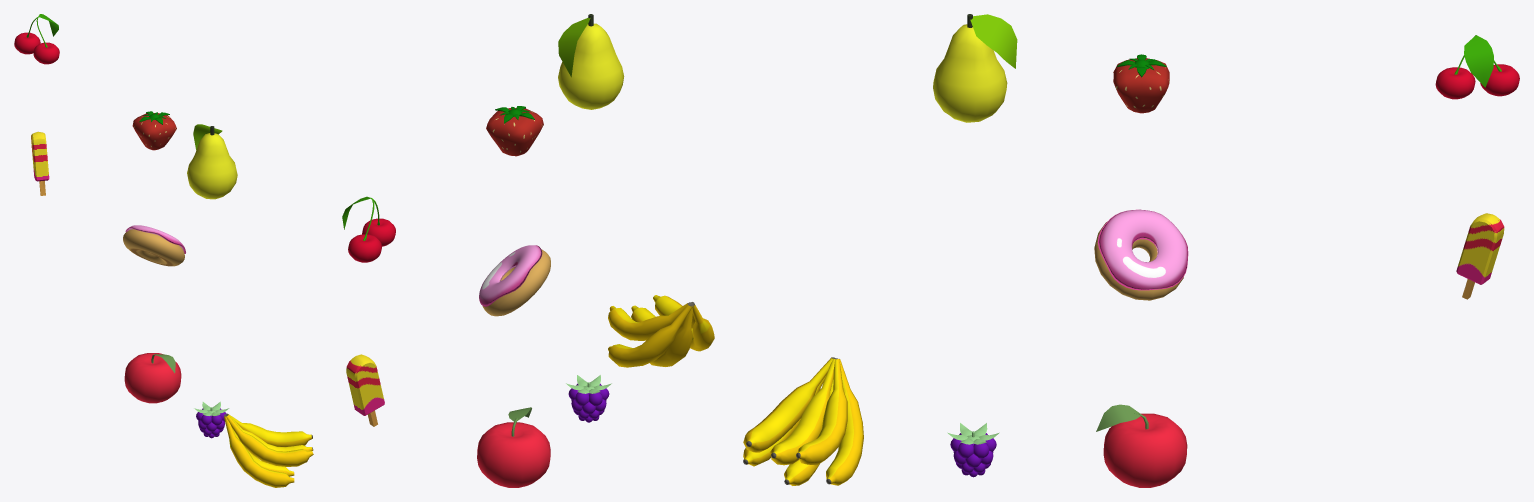
Rendered from Food.fbx.
3 views of the same model, side by side, from view 1: azimuth 30°, elevation 25°; view 2: azimuth 150°, elevation 25°; view 3: azimuth 270°, elevation 25° (orthographic). The views are drawn at different scales.
Visible parts, largest first — view 1: Bananas_21, Pear_4, Apple_23, Donut_14, pCube1_6, Cherry_1, Icecream_8, Blackberry_22; view 2: Bananas_21, Pear_4, Apple_23, Donut_14, pCube1_6, Icecream_8, Cherry_1, Blackberry_22; view 3: Bananas_21, Pear_4, Donut_14, Apple_23, Cherry_1, pCube1_6, Icecream_8, Blackberry_22.
Part boxes in pixels (bbox=[...]): Bananas_21: bbox=[224, 413, 313, 487]; Pear_4: bbox=[187, 124, 237, 199]; Apple_23: bbox=[124, 353, 181, 403]; Donut_14: bbox=[123, 225, 185, 266]; pCube1_6: bbox=[132, 111, 176, 150]; Cherry_1: bbox=[14, 14, 59, 64]; Icecream_8: bbox=[31, 131, 49, 195]; Blackberry_22: bbox=[194, 401, 229, 438]; Bananas_21: bbox=[608, 295, 714, 367]; Pear_4: bbox=[558, 14, 624, 109]; Apple_23: bbox=[477, 407, 550, 487]; Donut_14: bbox=[479, 245, 550, 316]; pCube1_6: bbox=[486, 106, 543, 156]; Icecream_8: bbox=[346, 354, 384, 426]; Cherry_1: bbox=[342, 196, 395, 262]; Blackberry_22: bbox=[566, 375, 611, 422]; Bananas_21: bbox=[743, 357, 863, 485]; Pear_4: bbox=[933, 14, 1017, 122]; Donut_14: bbox=[1094, 209, 1188, 300]; Apple_23: bbox=[1096, 404, 1187, 487]; Cherry_1: bbox=[1435, 35, 1519, 99]; pCube1_6: bbox=[1113, 54, 1169, 113]; Icecream_8: bbox=[1456, 213, 1504, 299]; Blackberry_22: bbox=[947, 423, 999, 477].
Bounding box in the file's own units: 1.2 × 4.6 × 6.92.
